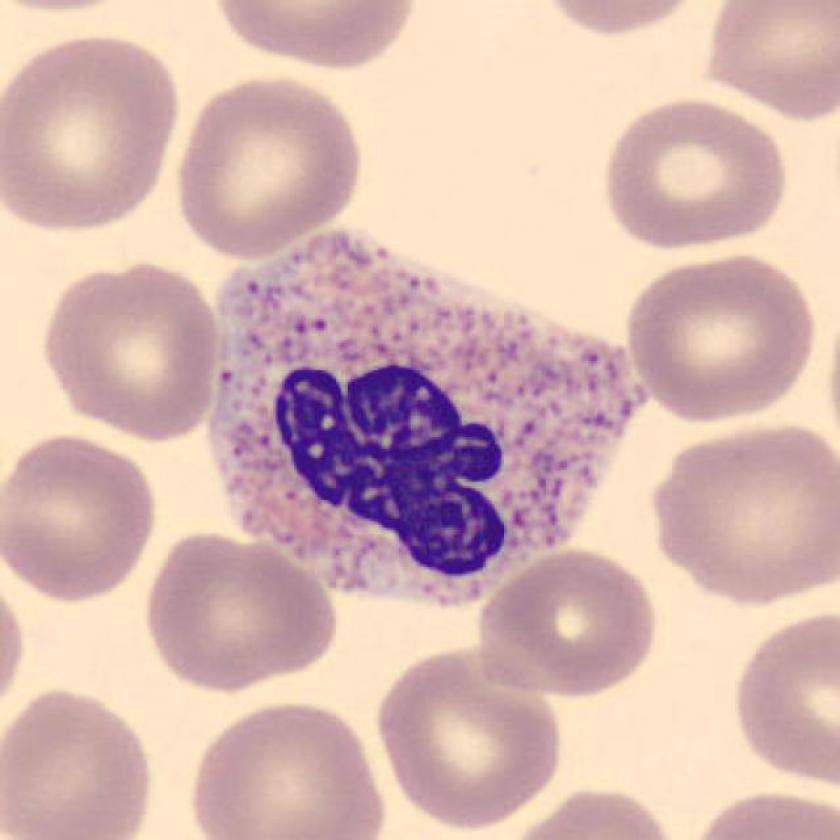neutrophil: (207, 226, 642, 609)
